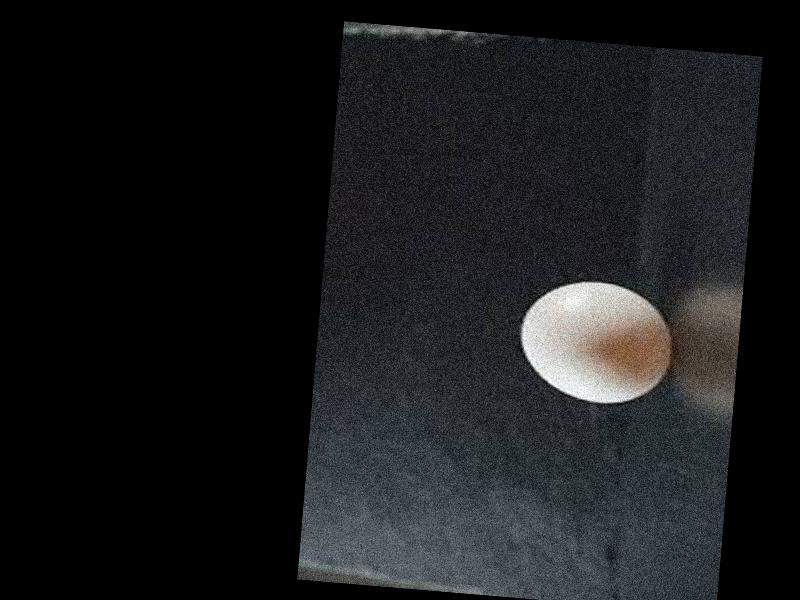Eggs: (512, 276, 676, 408)
